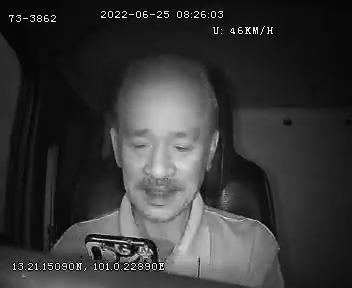PhoneUse: (71, 229, 171, 280)
